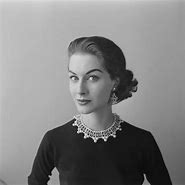person: (65, 35, 134, 116)
